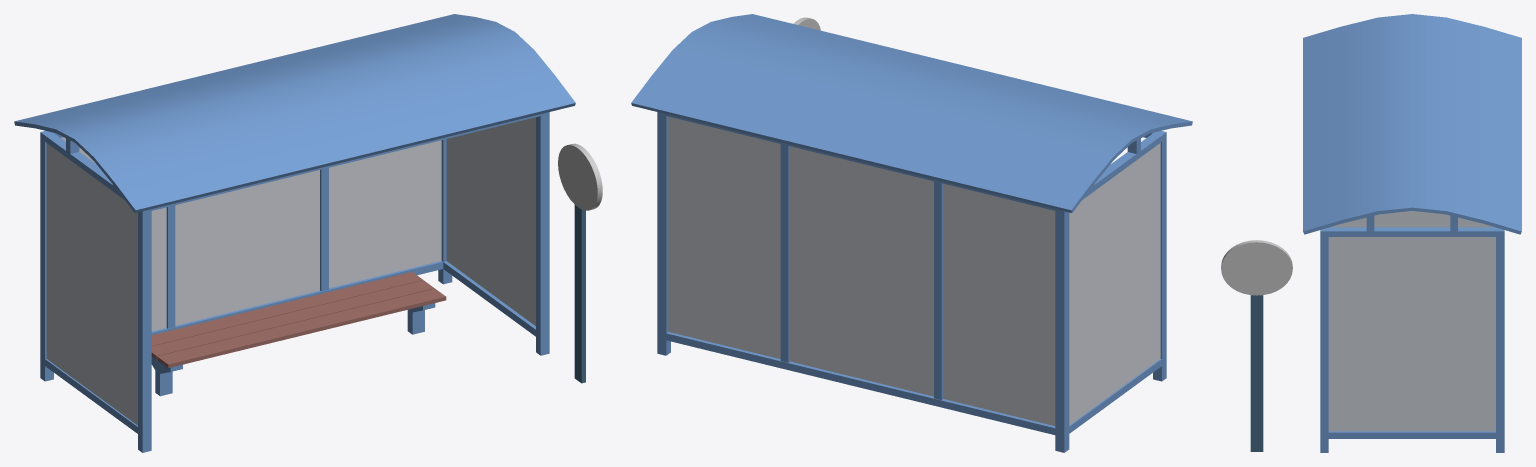
Rendered from bus-stop.fbx.
3 renders of one model, left to right at view 1: azimuth 30°, elevation 25°; view 2: azimuth 150°, elevation 25°; view 3: azimuth 270°, elevation 25°, orthographic. The views are drawn at different scales.
Parts seen in each view (by area): view 1: 5. bus-stop, bus-stop-sign; view 2: 5. bus-stop; view 3: 5. bus-stop, bus-stop-sign.
Part boxes in pixels (box(x1,y1,x2,y2)): 5. bus-stop: box(14, 14, 575, 452); bus-stop-sign: box(558, 143, 602, 383); 5. bus-stop: box(631, 14, 1192, 452); 5. bus-stop: box(1303, 14, 1521, 452); bus-stop-sign: box(1221, 240, 1292, 451).
Bounding box in the file's own units: 575 × 350 × 378.
